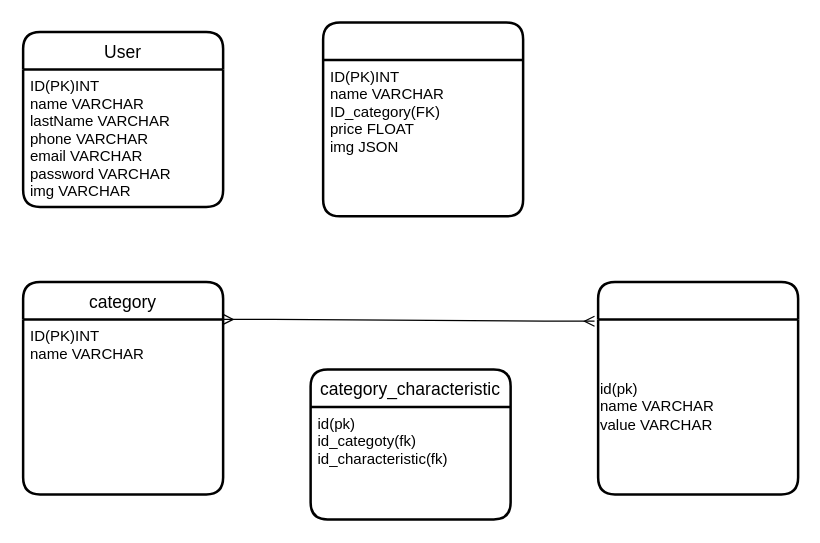
Some shapes in this 820 by 543 pixel diagram are drawn without their labels. Here are the shapes that lost their labels. From the top down, the box of each, then its label:
(321, 21, 524, 217): product
(596, 280, 799, 495): caracteristicas
